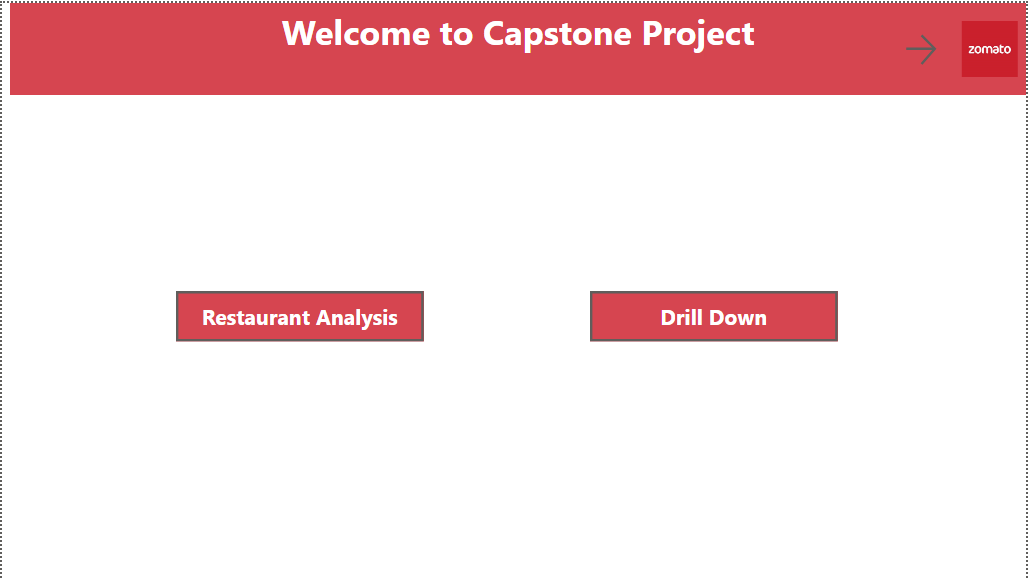

What the dashboard file says about the page in this screenshot:
{"tool":"powerbi","page":{"name":"Welcome Screen","canvas":[1280,720],"ordinal":0},"visuals":[{"type":"textbox","box":[9.9,0,1270.1,114.7],"z":0},{"type":"image","box":[1188.8,18,91.2,79.7],"z":1000},{"type":"actionButton","box":[217,360.1,309.5,62.9],"z":2000},{"type":"actionButton","box":[735,360.1,309.5,62.9],"z":3000},{"type":"actionButton","box":[1123.2,29.6,48.8,56.5],"z":4000}]}

Visuals, with their boxes in screenshot pixels (x1, y1, x2, y2), scaled from the page's 1280x720 canvas onto the 1028x580 screenshot:
textbox: 8:0:1027:92
image: 955:14:1027:79
actionButton: 174:290:423:341
actionButton: 590:290:839:341
actionButton: 902:24:941:69
